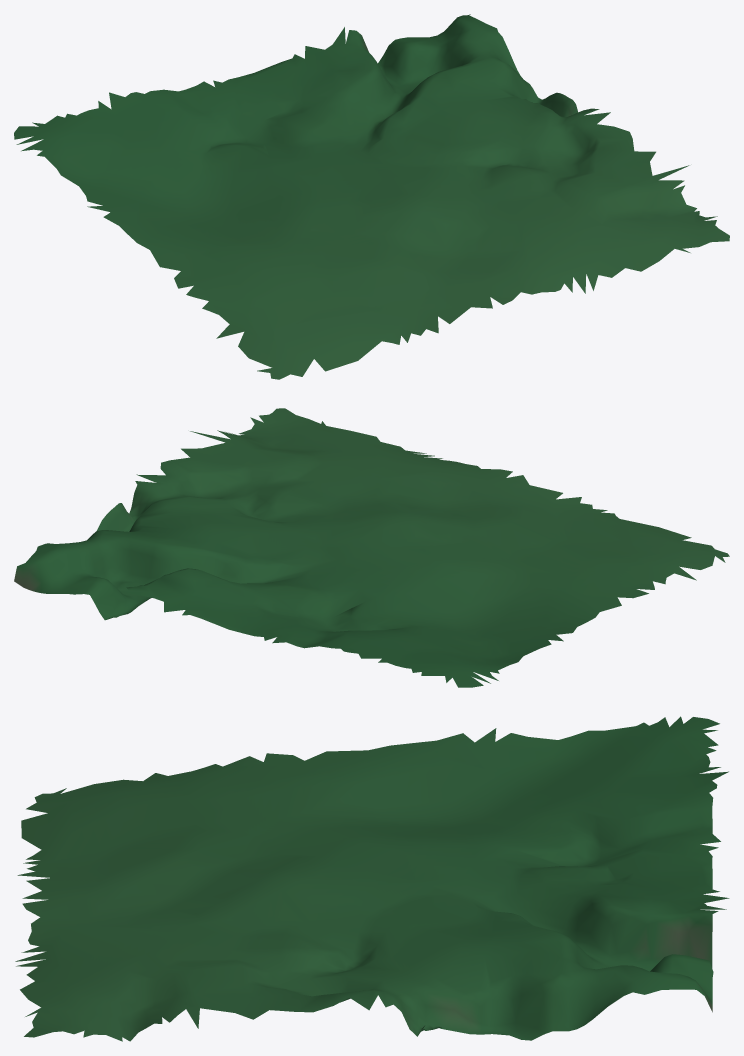
The model's file is payo_land_x0_y6_lod1.glb.
The picture shows the model from 3 angles, top to bottom: view 1: azimuth 30°, elevation 25°; view 2: azimuth 150°, elevation 25°; view 3: azimuth 270°, elevation 25°; orthographic projection. The views are drawn at different scales.
Visible parts, largest first — view 1: payo_land_x0_y6; view 2: payo_land_x0_y6; view 3: payo_land_x0_y6.
Part boxes in pixels (box(x1,y1,x2,y2)): payo_land_x0_y6: box(14, 14, 729, 379); payo_land_x0_y6: box(14, 408, 729, 687); payo_land_x0_y6: box(15, 716, 729, 1041).
Bounding box in the file's own units: 277 × 40.79 × 269.
